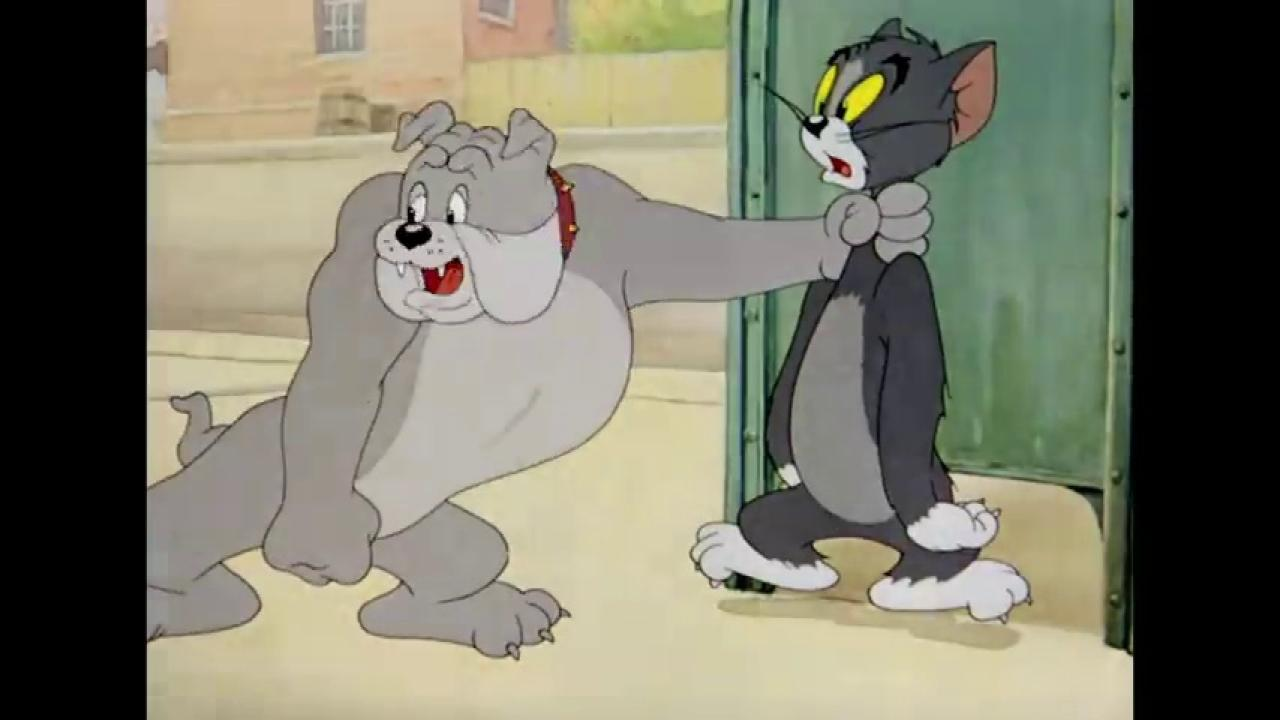Tom: (688, 14, 1034, 627)
